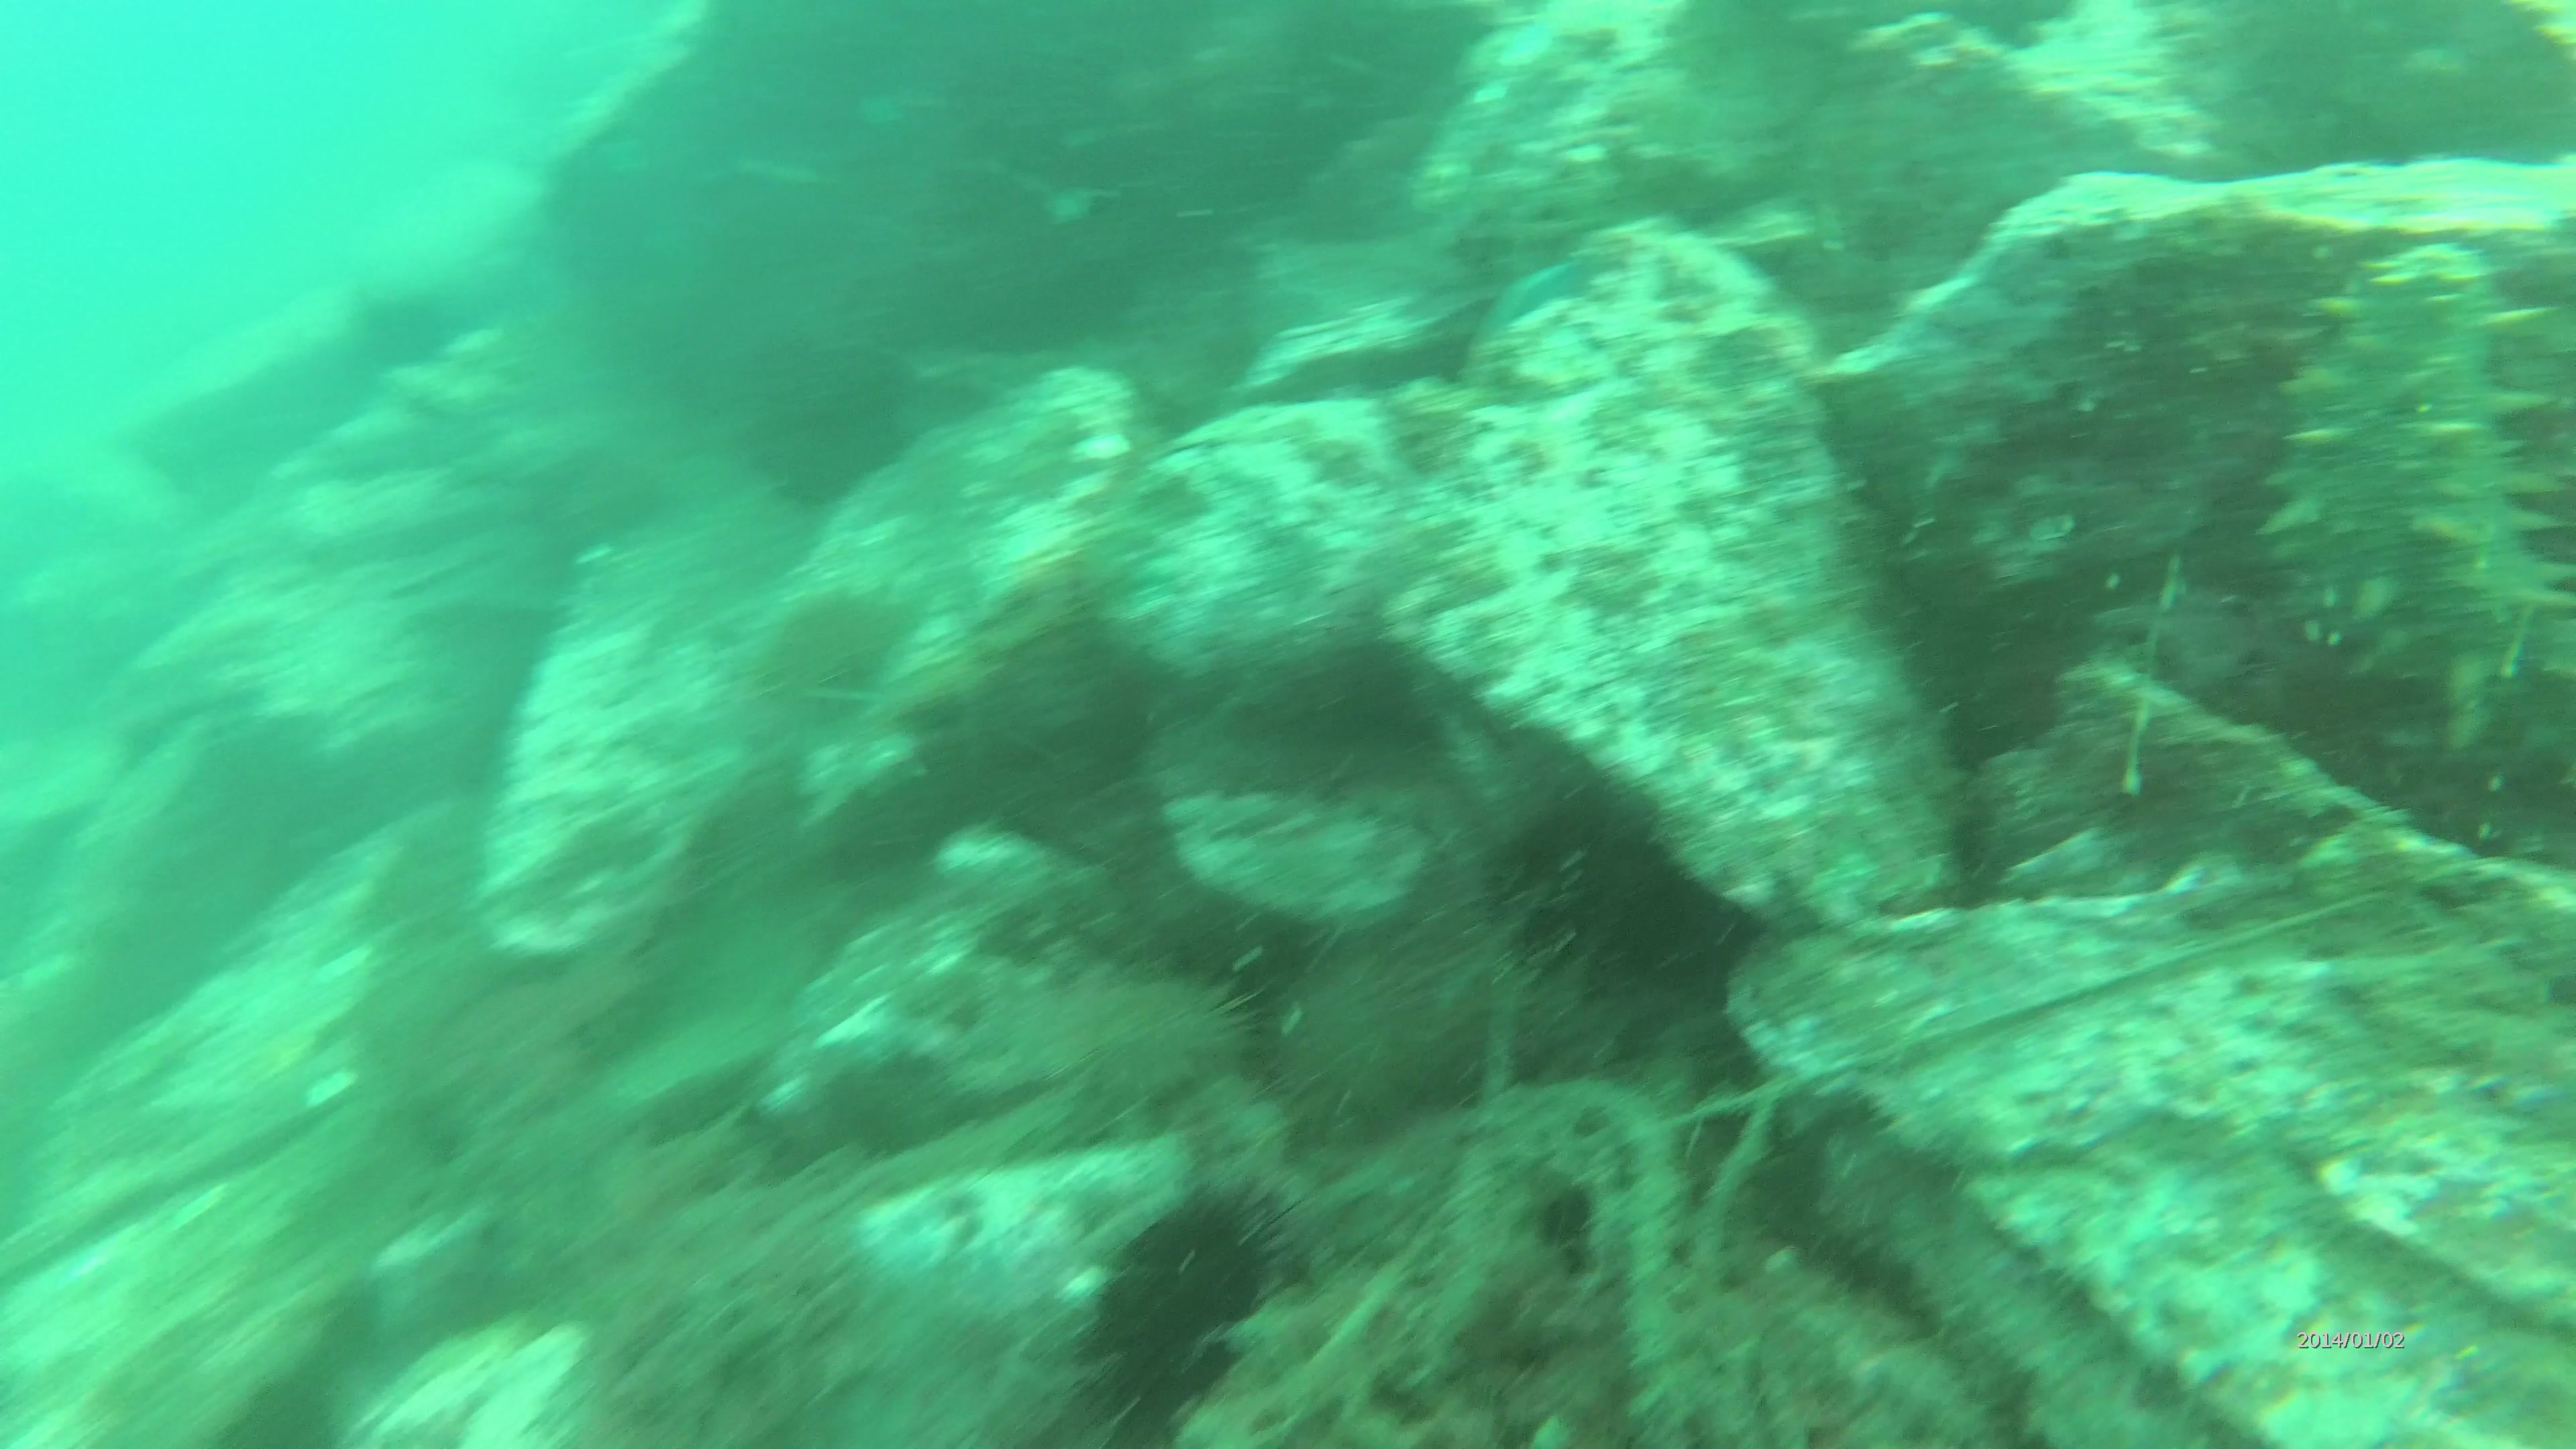echinus: (1069, 1175, 1292, 1410), (1468, 793, 1693, 975), (1049, 948, 1256, 1123), (1276, 943, 1461, 1127)
holothurian: (2265, 232, 2571, 706)
